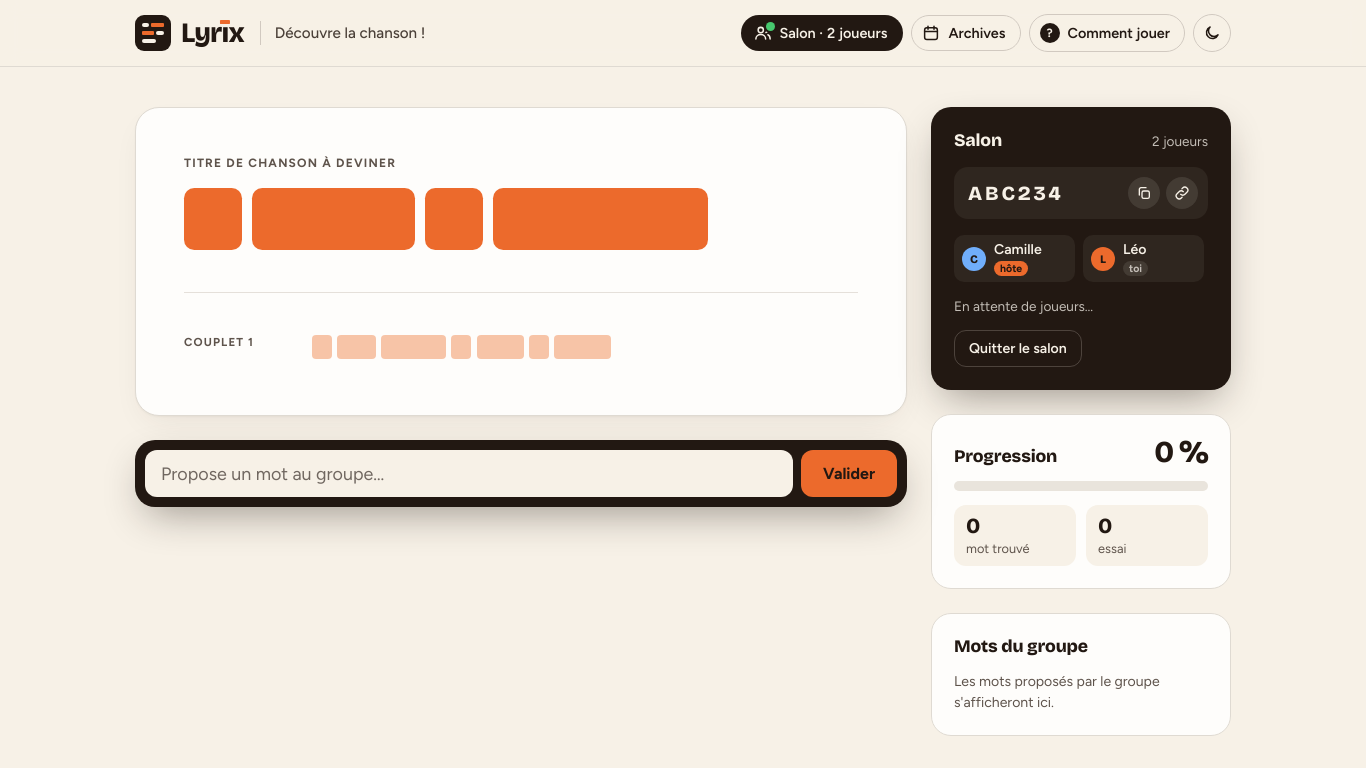
Test: the multiplayer dialog › shows the room, not the forms, when opened from inside one
Expected: the field with placeholder "Propose un mot au groupe…" is shown, [145,450,793,497]
Step 1. Click the button "Salon · 2 joueurs" → click(822, 33), box [740,15,903,51]
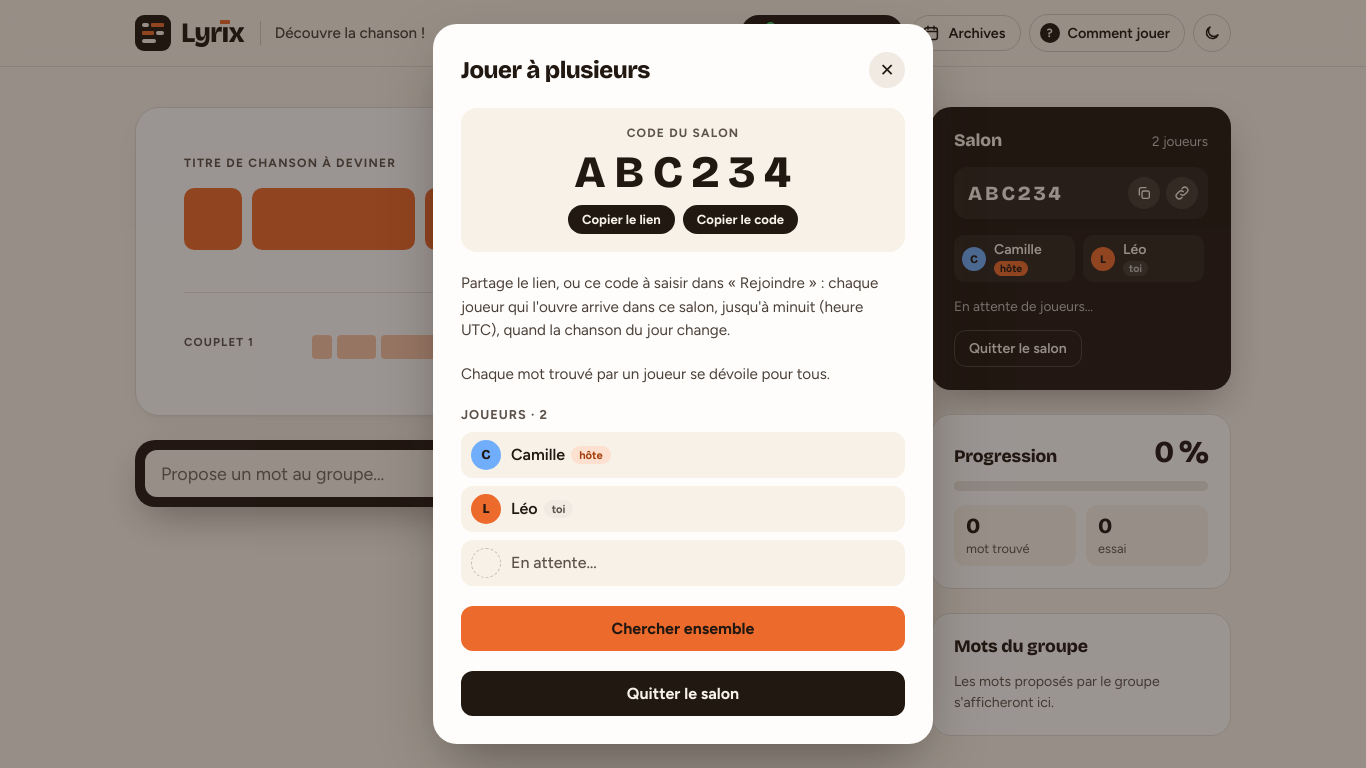
Result: the text "ABC234" is shown at [566,150,800,195]
Result: the text "hôte" is shown at [571,446,611,464]
